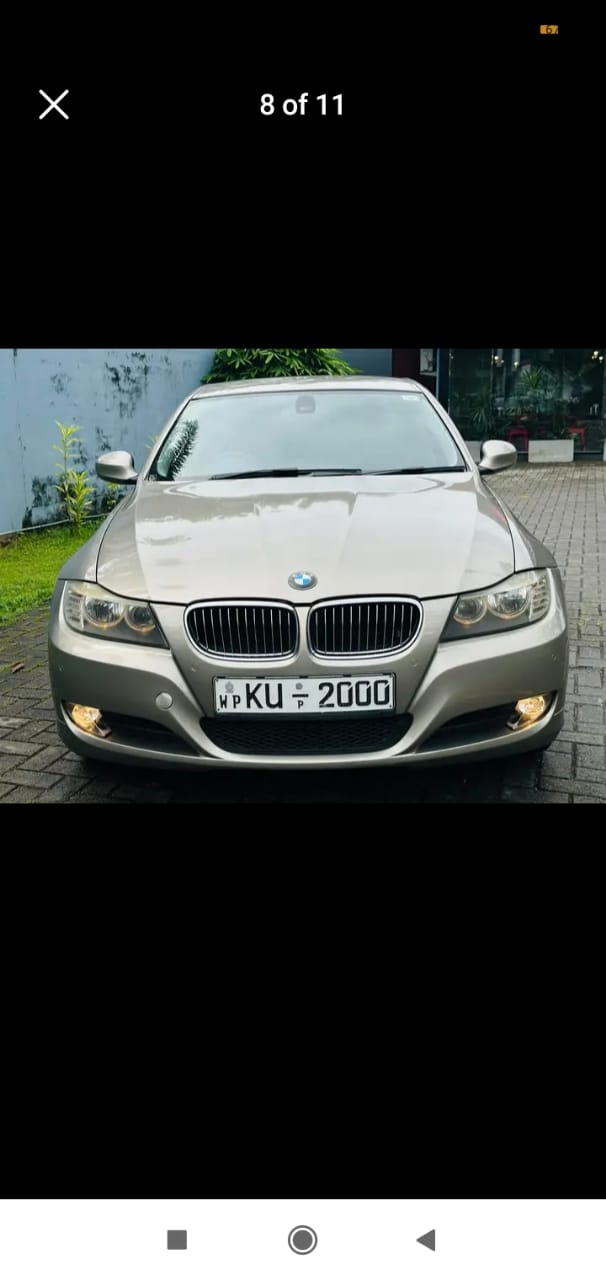number_plate: (212, 678, 393, 712)
